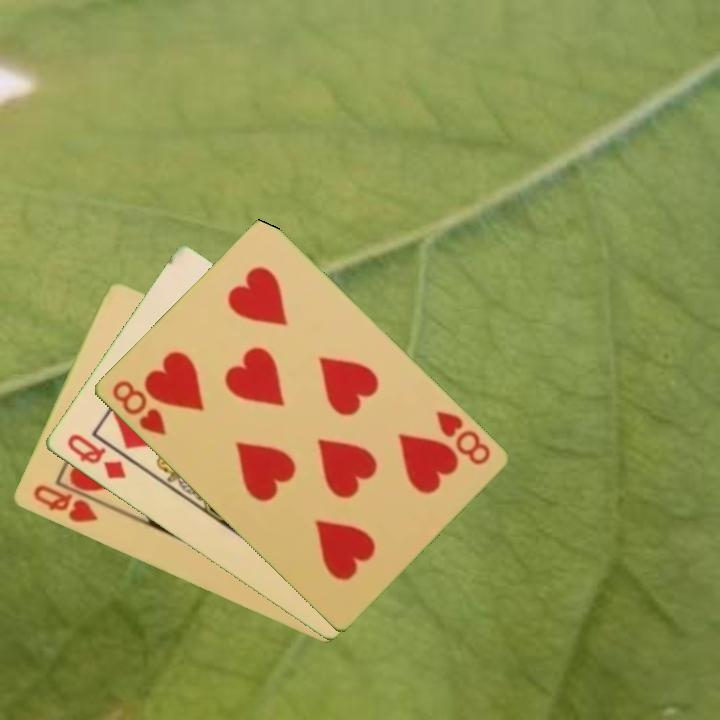8h: (108, 377, 169, 439), (432, 407, 493, 468)
Qd: (63, 430, 129, 482)
Qh: (29, 481, 101, 526)
